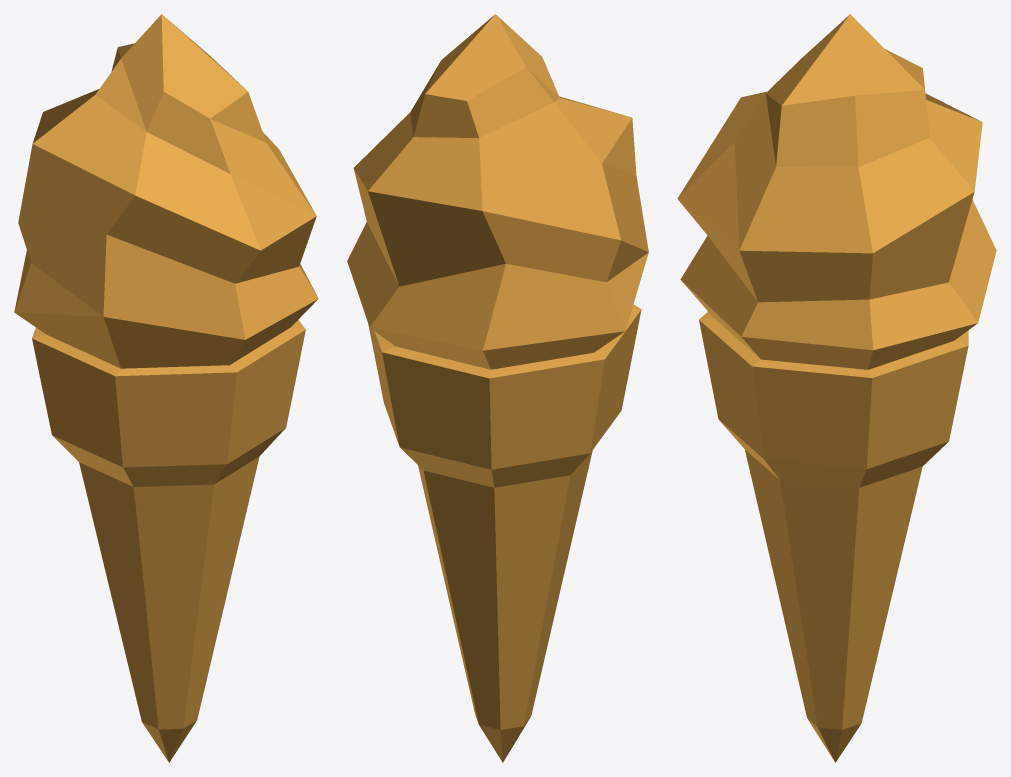
The model's file is ice-cream-cone.fbx.
The picture shows the model from 3 angles, left to right: view 1: azimuth 30°, elevation 25°; view 2: azimuth 150°, elevation 25°; view 3: azimuth 270°, elevation 25°; orthographic projection.
Parts seen in each view (by area): view 1: ice-cream-cone; view 2: ice-cream-cone; view 3: ice-cream-cone.
Part boxes in pixels (left/top/right/bottom): ice-cream-cone: left=14, top=14, right=318, bottom=762; ice-cream-cone: left=347, top=14, right=648, bottom=762; ice-cream-cone: left=677, top=14, right=996, bottom=762.
Size of the model in its own units: 0.0743 by 0.1937 by 0.0748.
